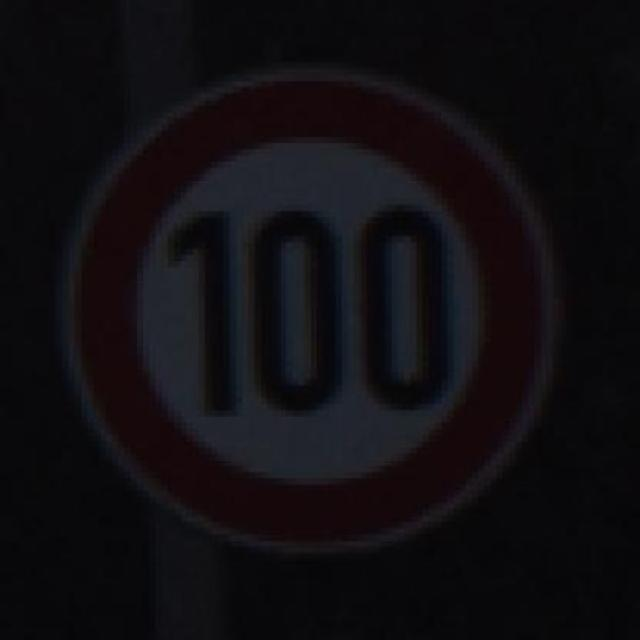forb_speed_over_100: (66, 70, 557, 552)
